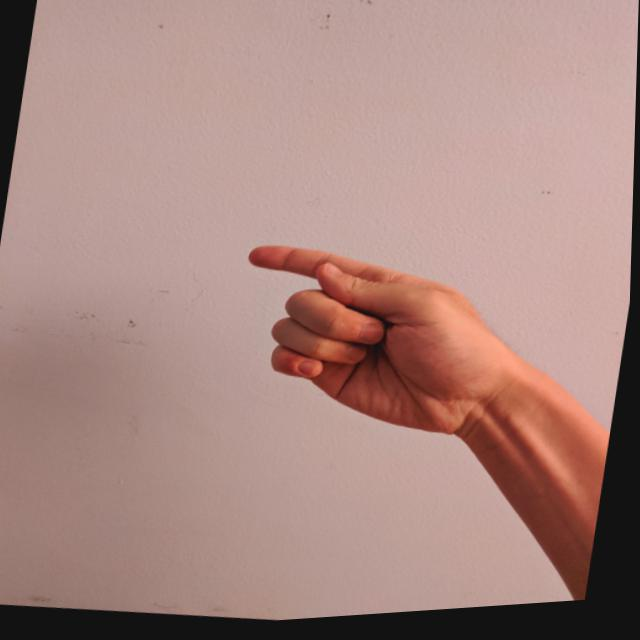G: (216, 227, 525, 468)
